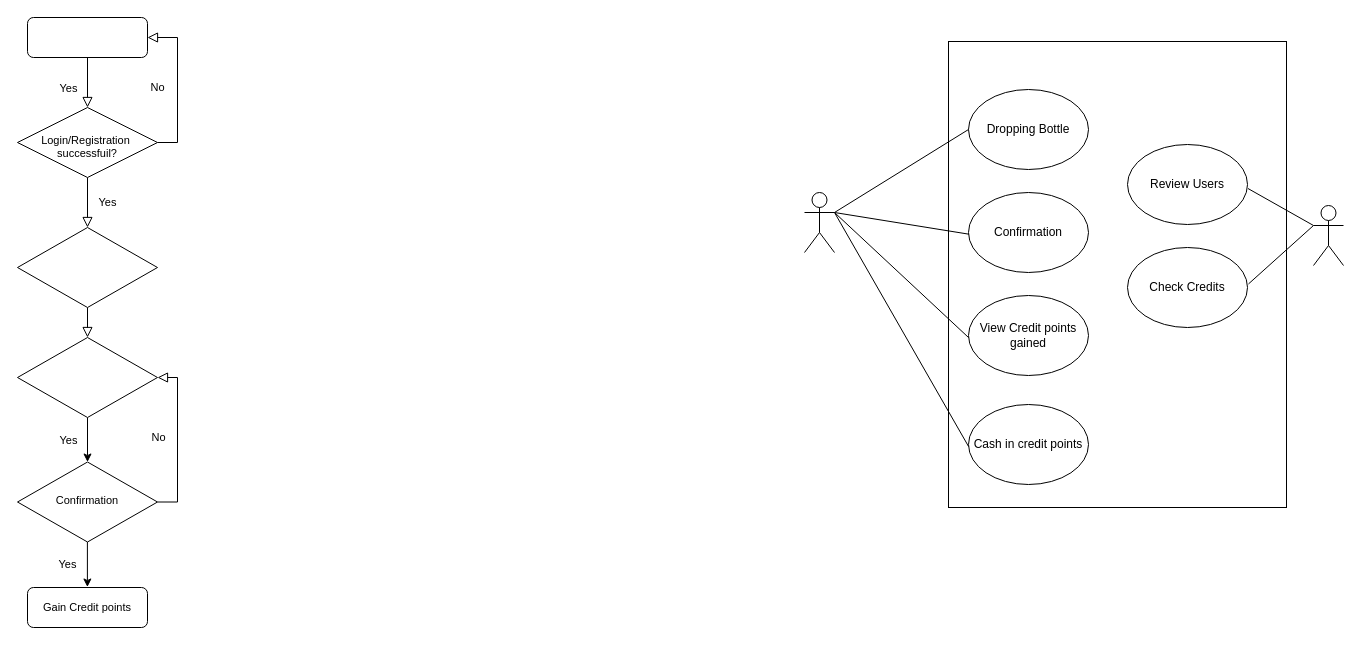
The diagram is 1363 pixels wide and 645 high, and some of its shapes have lost their labels. The shapes that lost their labels are listed below. From the top down, each one's centre as x and y in pixels, then its label:
At pixel 87 37: "Login/Register".
At pixel 819 222: "User".
At pixel 1328 235: "Admin".
At pixel 87 267: "Scan bottle to be recognised".
At pixel 87 377: "Display reminder to drop bottle".
